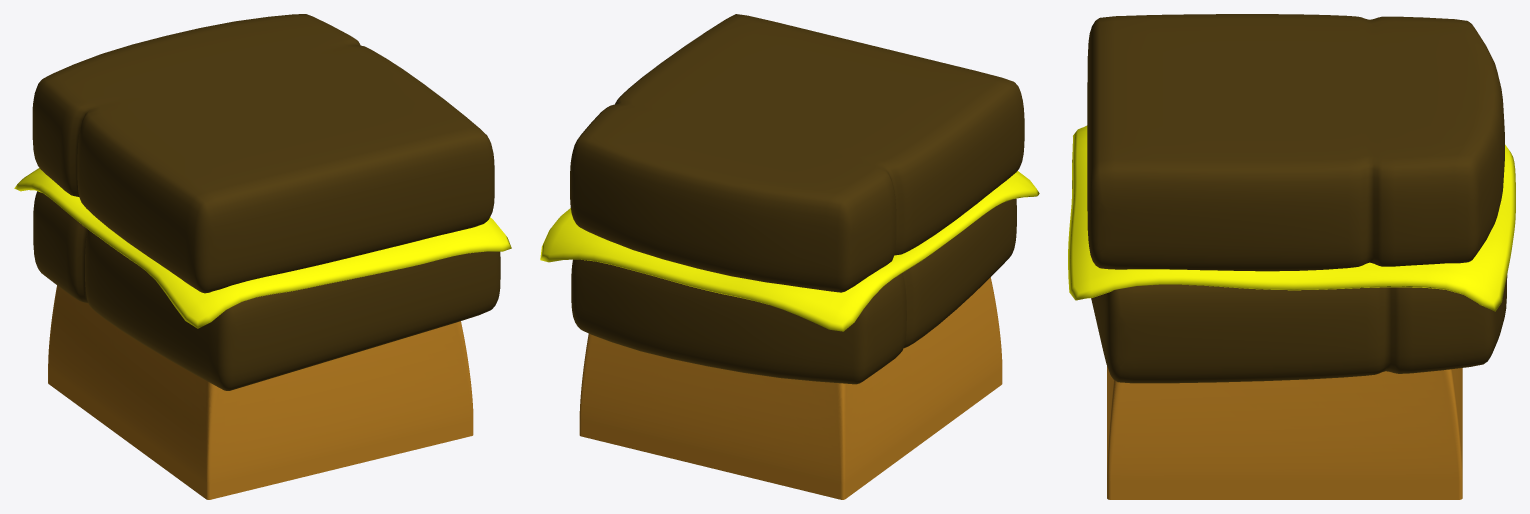
The model's file is Artisan_Toast.FBX.
3 views of the same model, side by side, from view 1: azimuth 30°, elevation 25°; view 2: azimuth 150°, elevation 25°; view 3: azimuth 270°, elevation 25° (orthographic). The views are drawn at different scales.
Parts seen in each view (by area): view 1: Bread2, _STL_BINARY_003, Bread1, Cheese; view 2: Bread2, _STL_BINARY_003, Bread1, Cheese; view 3: Bread2, _STL_BINARY_003, Bread1, Cheese.
Boxes of the visible parts, x1,y1,x2,y2 form: Bread2: (32,14,494,293); _STL_BINARY_003: (48,285,473,499); Bread1: (33,191,500,390); Cheese: (14,168,511,328); Bread2: (570,14,1024,292); _STL_BINARY_003: (579,277,1002,499); Bread1: (571,198,1016,384); Cheese: (540,171,1039,331); Bread2: (1087,14,1504,271); _STL_BINARY_003: (1107,366,1462,499); Bread1: (1072,160,1507,383); Cheese: (1068,125,1515,311).
Size of the model in its own units: 21.34 by 19.11 by 22.93.
